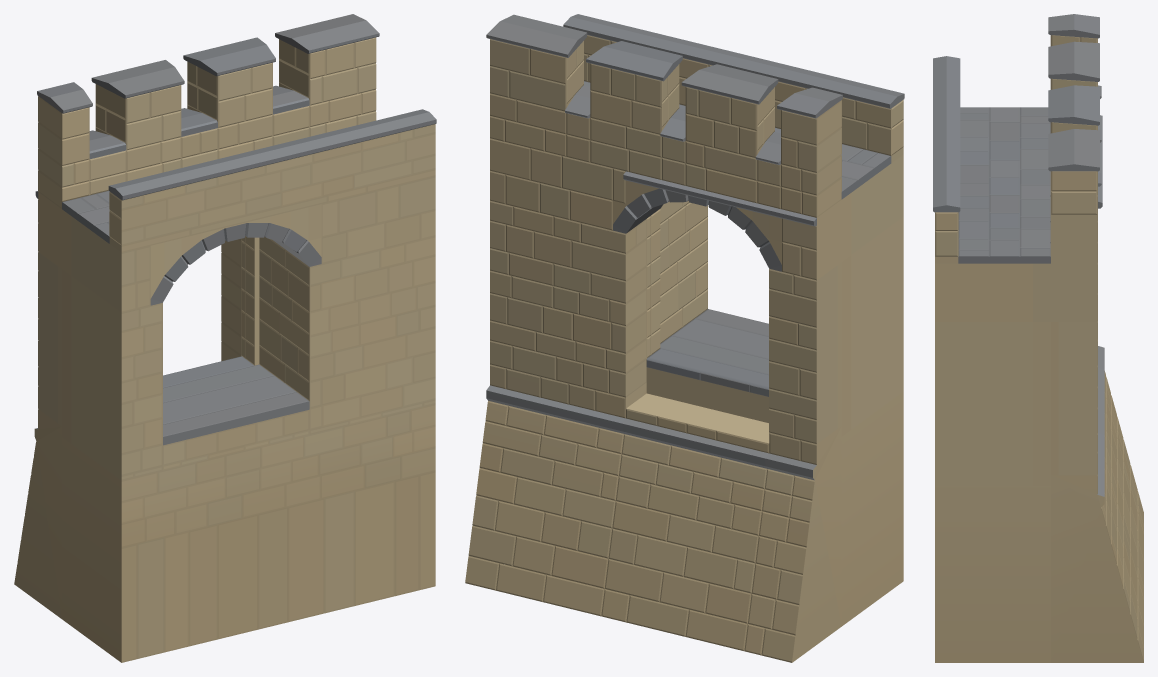
The picture shows the model from 3 angles, left to right: view 1: azimuth 30°, elevation 25°; view 2: azimuth 150°, elevation 25°; view 3: azimuth 270°, elevation 25°; orthographic projection. The views are drawn at different scales.
Visible parts, largest first — view 1: Mesh_Limestone, Mesh_Granite; view 2: Mesh_Limestone, Mesh_Granite; view 3: Mesh_Limestone, Mesh_Granite.
Part boxes in pixels (x1,y1,x2,y2): Mesh_Limestone: (14, 37, 435, 662); Mesh_Granite: (35, 14, 436, 445); Mesh_Limestone: (465, 35, 903, 662); Mesh_Granite: (486, 14, 904, 480); Mesh_Limestone: (935, 35, 1143, 662); Mesh_Granite: (933, 14, 1104, 496).
Size of the model in its own units: 6.91 by 10.7 by 4.09.
